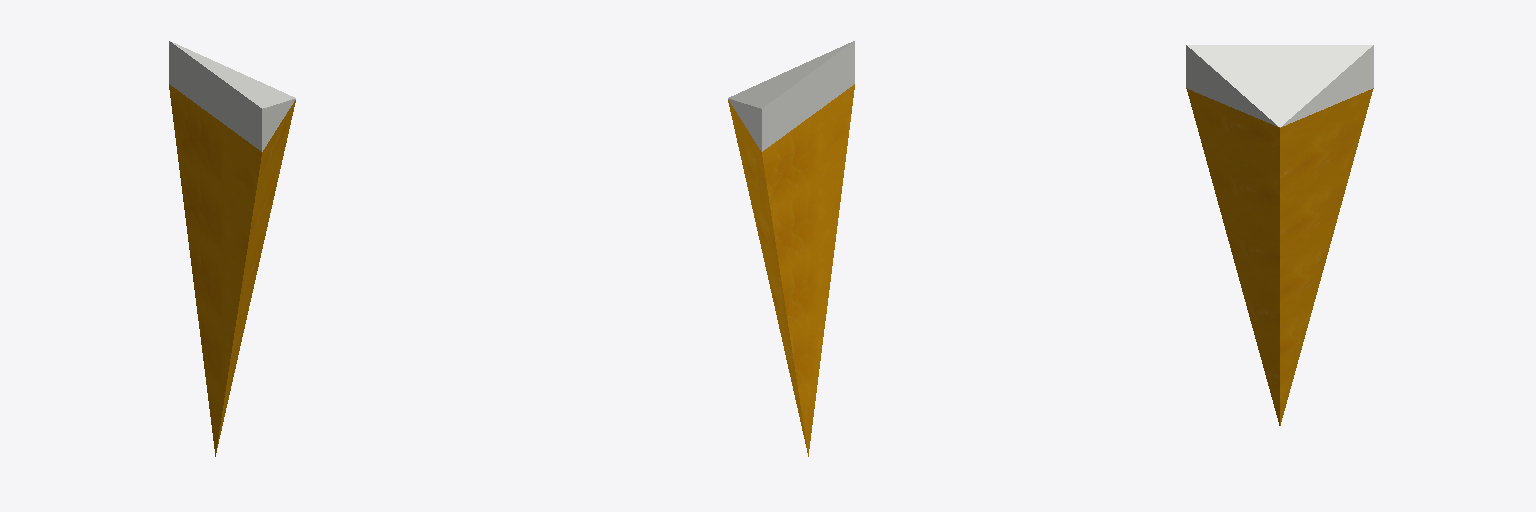
The picture shows the model from 3 angles: view 1: azimuth 30°, elevation 25°; view 2: azimuth 150°, elevation 25°; view 3: azimuth 270°, elevation 25°; orthographic projection.
Visible parts, largest first — view 1: kura_rleg_c_rleg-Material3, kura_rleg_c_rleg-Material1; view 2: kura_rleg_c_rleg-Material3, kura_rleg_c_rleg-Material1; view 3: kura_rleg_c_rleg-Material3, kura_rleg_c_rleg-Material1.
Part boxes in pixels (bbox=[...]): kura_rleg_c_rleg-Material3: bbox=[169, 84, 295, 456]; kura_rleg_c_rleg-Material1: bbox=[169, 41, 295, 151]; kura_rleg_c_rleg-Material3: bbox=[728, 84, 854, 456]; kura_rleg_c_rleg-Material1: bbox=[728, 41, 854, 151]; kura_rleg_c_rleg-Material3: bbox=[1186, 88, 1373, 425]; kura_rleg_c_rleg-Material1: bbox=[1186, 45, 1373, 127].
Bounding box in the file's own units: 0.05 × 0.2256 × 0.1.
Materials: 2 (1 with a texture image).